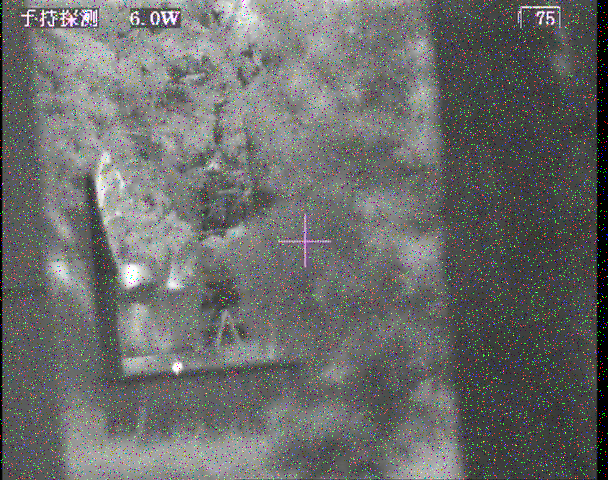my: (170, 359, 184, 373)
